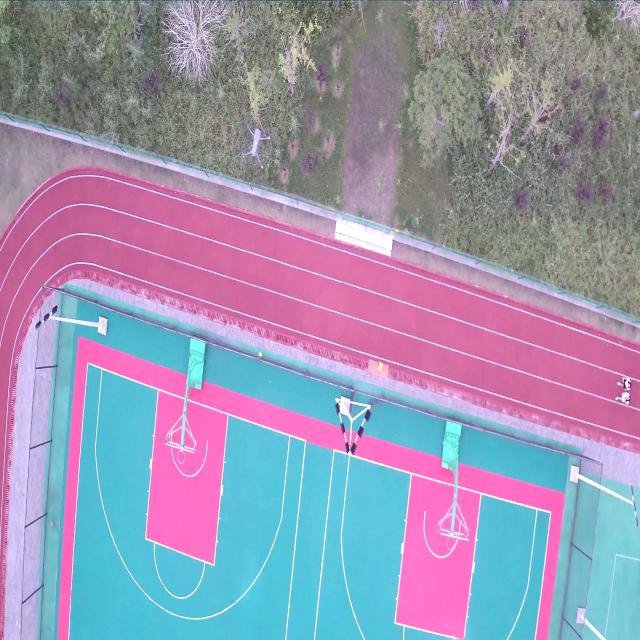UAV: (241, 125, 272, 170)
